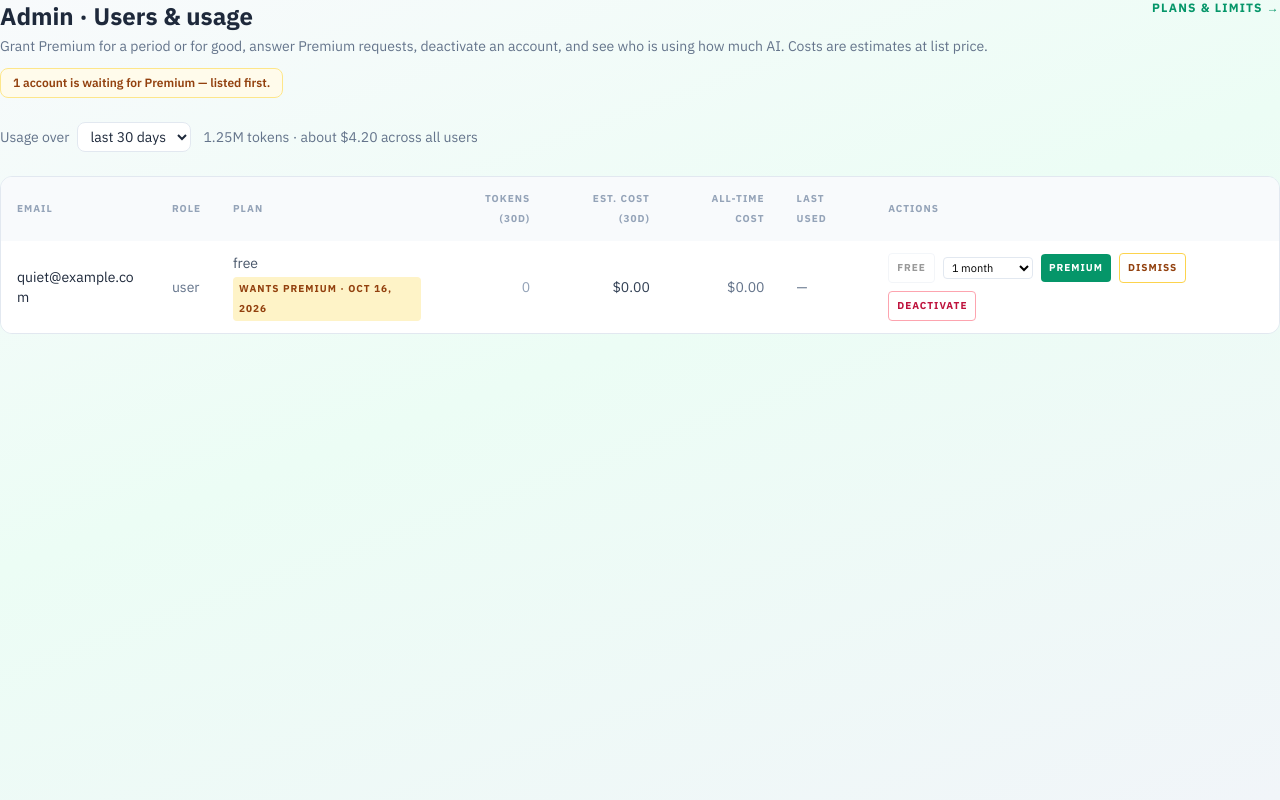
it: AdminUsersPage plans › dismisses a request without touching the plan
This screenshot has width=1280, height=800.
Click the button with aria-label "Dismiss quiet@example.com's Premium request". click: (1153,268)
box: [1119,253,1186,283]
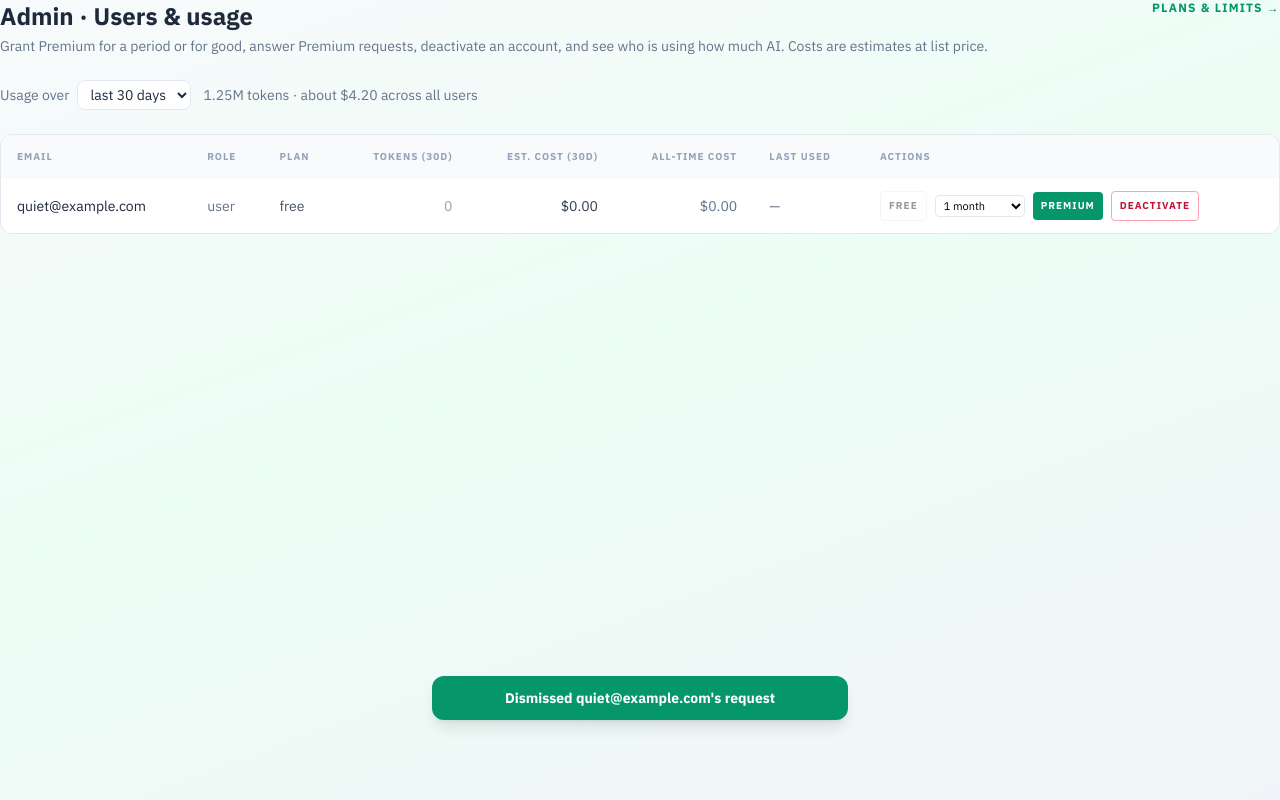
Expected: the text "Wants Premium" is gone
